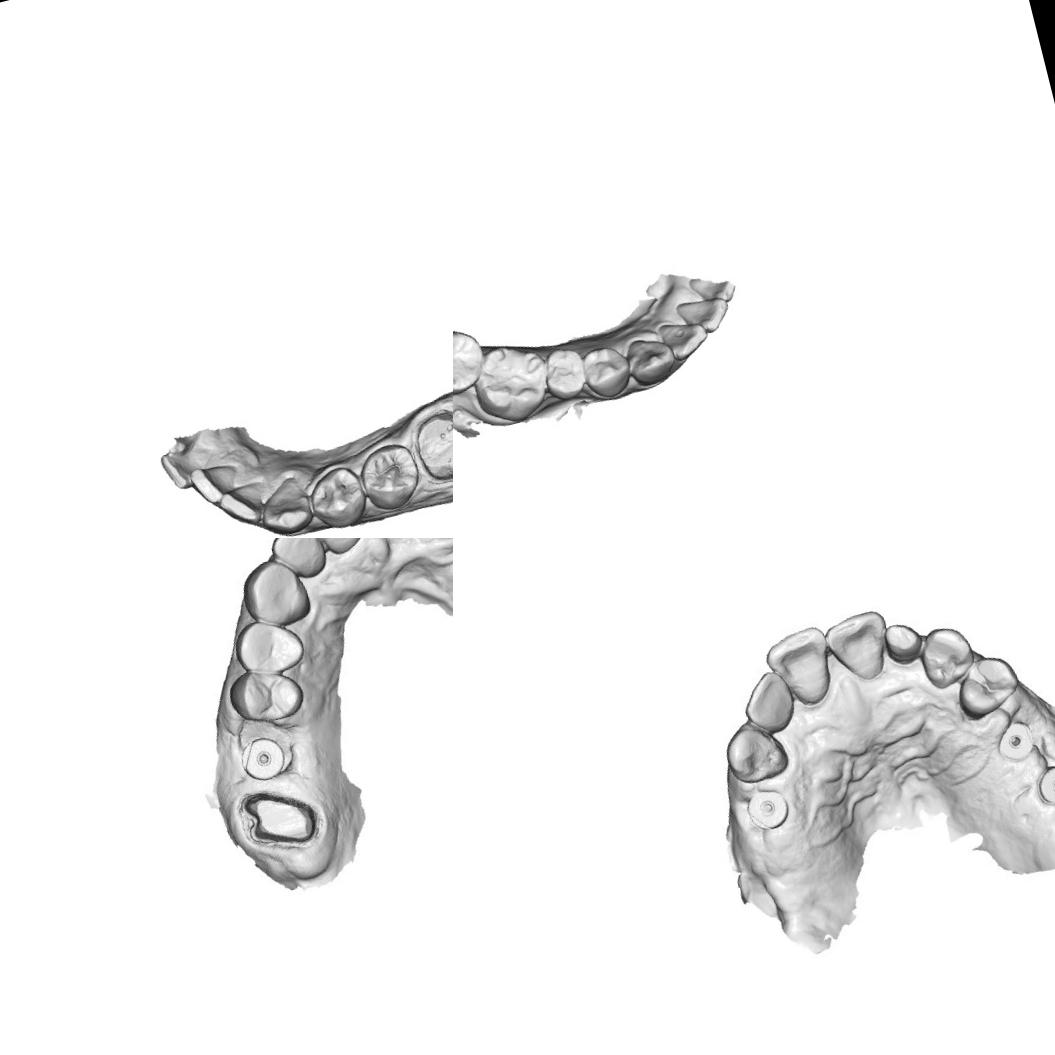canine: (233, 549, 317, 633), (718, 714, 792, 788), (913, 620, 981, 692), (253, 471, 317, 538), (622, 329, 680, 390)
crown: (236, 781, 322, 857), (405, 401, 453, 491)
implant: (232, 730, 294, 788), (740, 782, 796, 837), (992, 716, 1038, 763), (1035, 758, 1055, 812)
incisor: (760, 622, 842, 714), (820, 606, 897, 688), (734, 666, 802, 740), (671, 290, 734, 341), (654, 312, 712, 365), (263, 538, 334, 581), (213, 479, 269, 530), (186, 458, 242, 509), (157, 442, 212, 493), (876, 614, 926, 668), (685, 270, 738, 310), (301, 538, 378, 555)
molar: (462, 334, 556, 432), (453, 316, 492, 403)
premolar: (223, 660, 309, 732), (948, 648, 1026, 724), (229, 610, 310, 681), (354, 437, 427, 515), (302, 461, 373, 534), (536, 340, 594, 405), (578, 339, 636, 403)
